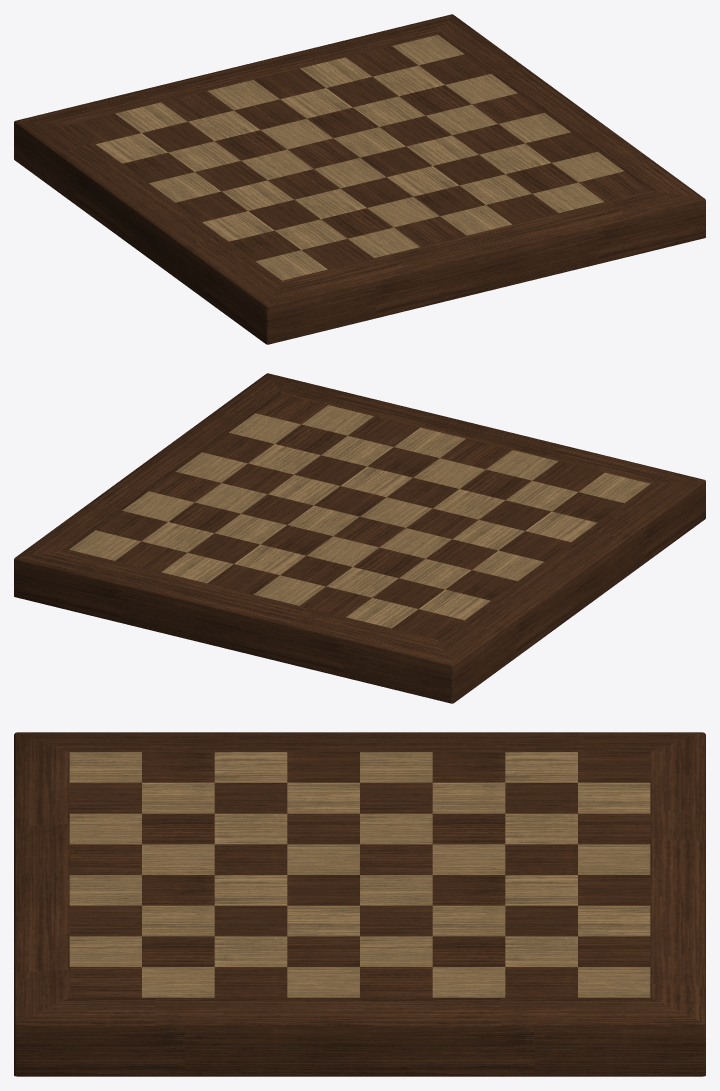
File: board.glb
The picture shows the model from 3 angles, top to bottom: view 1: azimuth 30°, elevation 25°; view 2: azimuth 150°, elevation 25°; view 3: azimuth 270°, elevation 25°; orthographic projection. The views are drawn at different scales.
Visible parts, largest first — view 1: Chess_Board; view 2: Chess_Board; view 3: Chess_Board.
Boxes of the visible parts, x1,y1,x2,y2 form: Chess_Board: [14, 14, 705, 344]; Chess_Board: [14, 373, 705, 703]; Chess_Board: [14, 732, 705, 1076].
Size of the model in its own units: 56.58 by 5 by 56.58.
2 materials, 2 textured.
